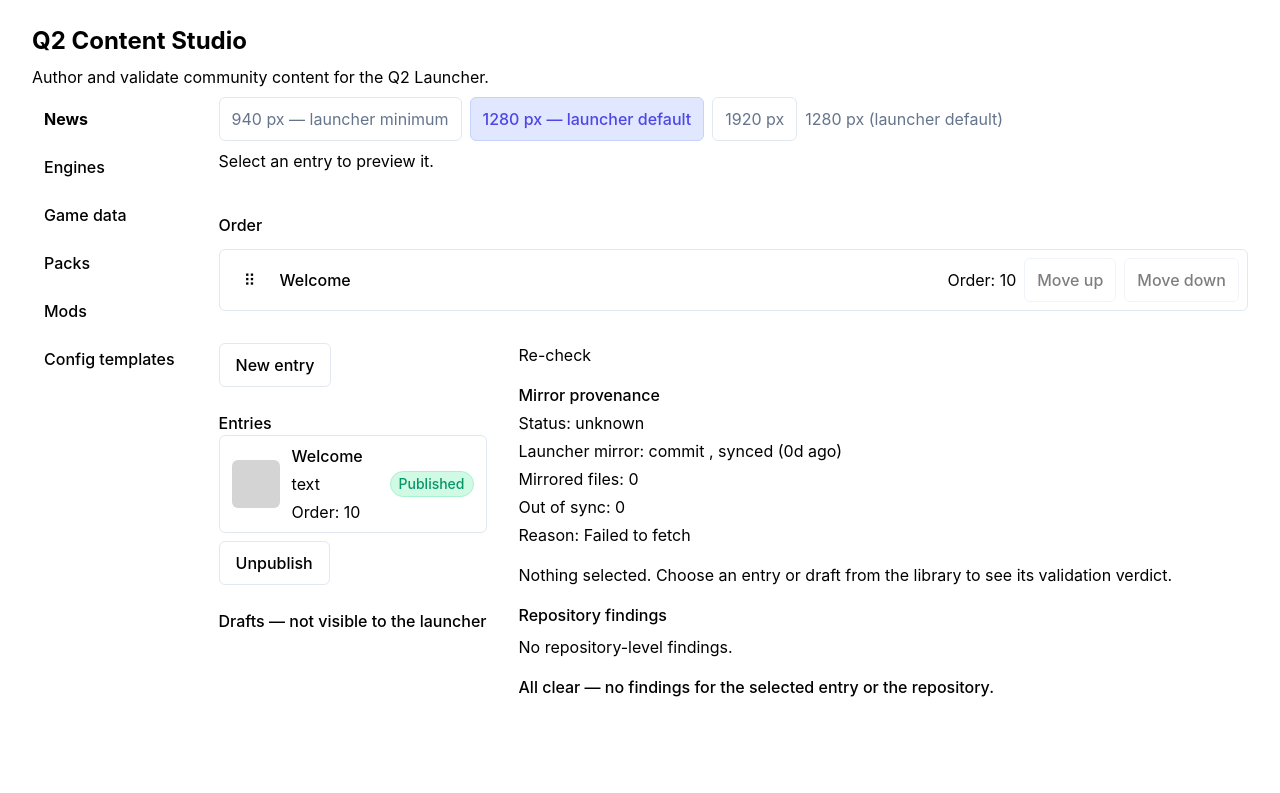
the validation panel renders alongside the library and follows the current entry
Check: the text "Nothing selected" is shown, box top-left (518, 565), bottom-right (1172, 585)
Click the button "Welcome text Order: 10 Published". click: (256, 484)
box: top-left (219, 435), bottom-right (486, 533)
(page scrolled)
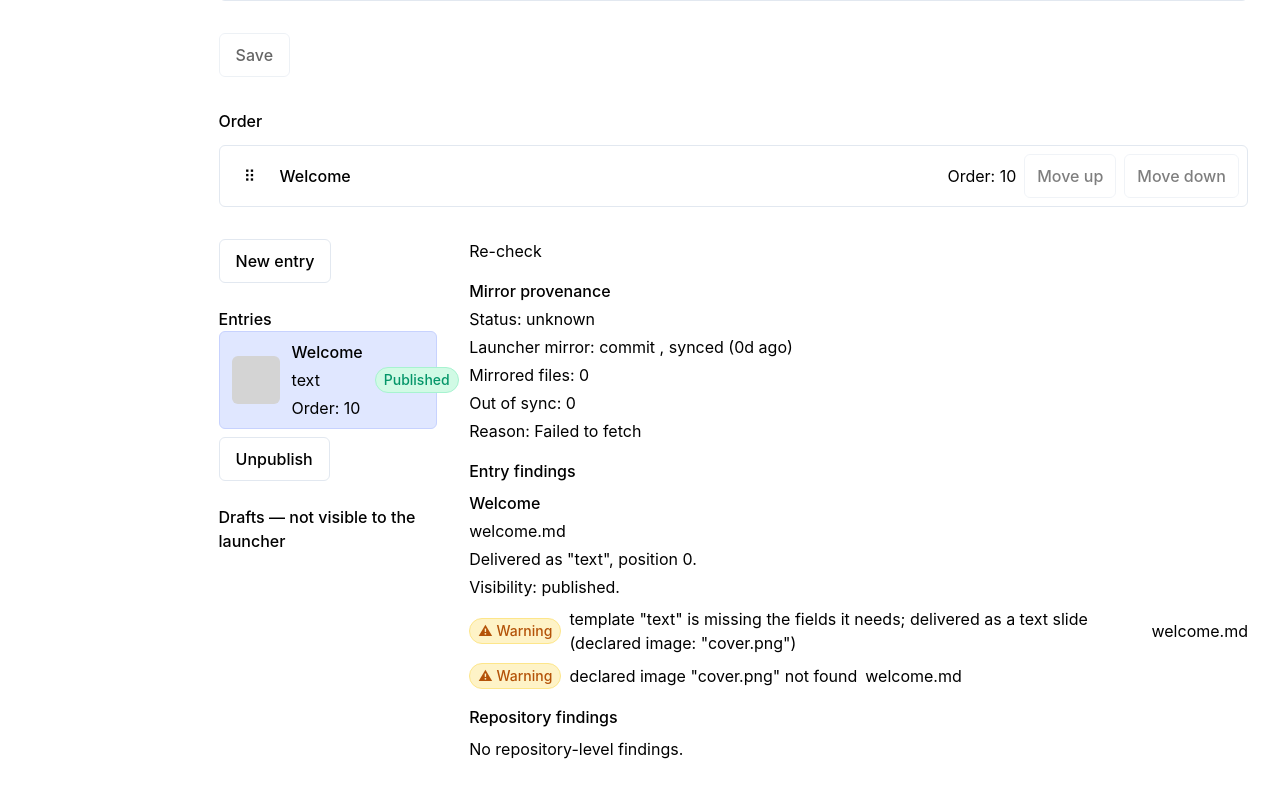
Check: the text "Welcome" below "Entry findings" is shown, box top-left (469, 493), bottom-right (540, 513)
Check: the text "declared image \"cover.png\" not found" is shown, box top-left (569, 664), bottom-right (857, 688)
